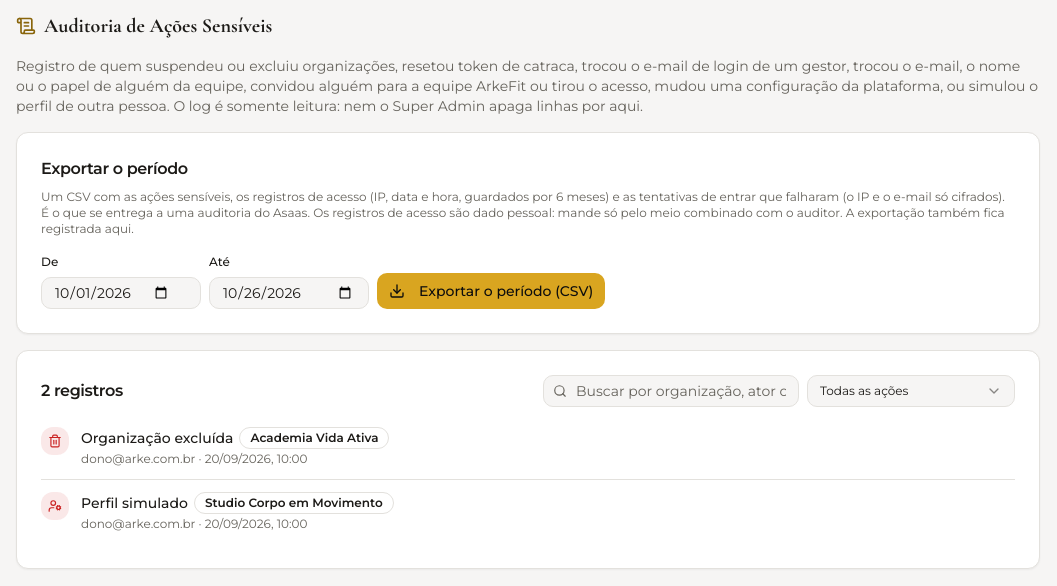
SuperAdminAuditoria › filtra por busca sem perder o total original
Check: the text "2 registros" is shown, box top-left (41, 379), bottom-right (123, 403)
Type "Studio" into the field with placeholder "Buscar por organização, ator ou ação..." at (671,391), box top-left (543, 375), bottom-right (799, 407)
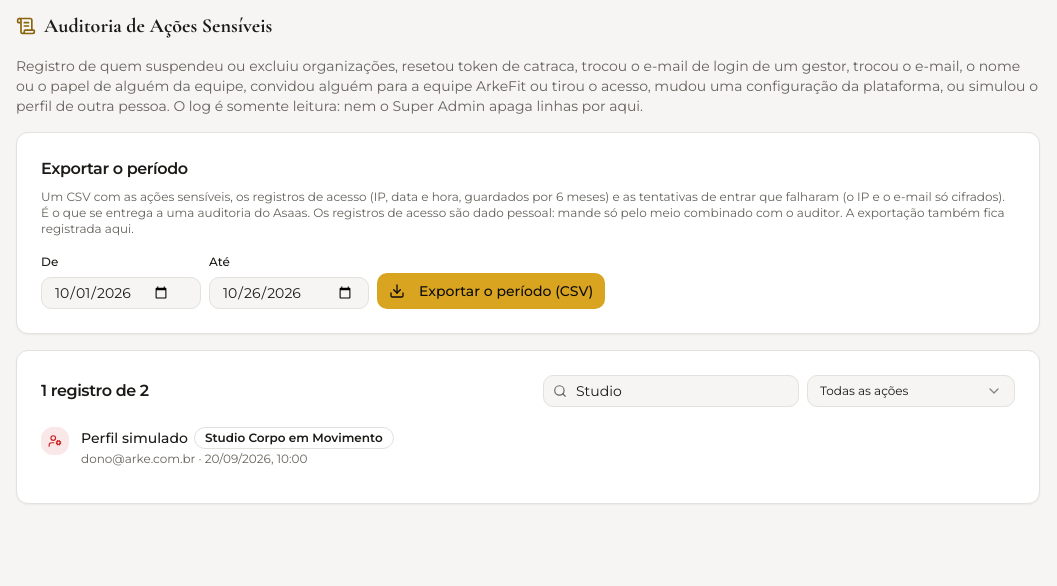
Check: the text "1 registro de 2" is shown, box top-left (41, 379), bottom-right (149, 403)
Check: the text "Academia Vida Ativa" is gone
